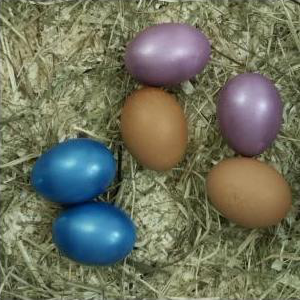egg: (206, 157, 294, 228), (122, 87, 189, 171), (31, 139, 115, 204), (125, 23, 212, 84), (219, 75, 282, 157), (52, 204, 134, 266)
